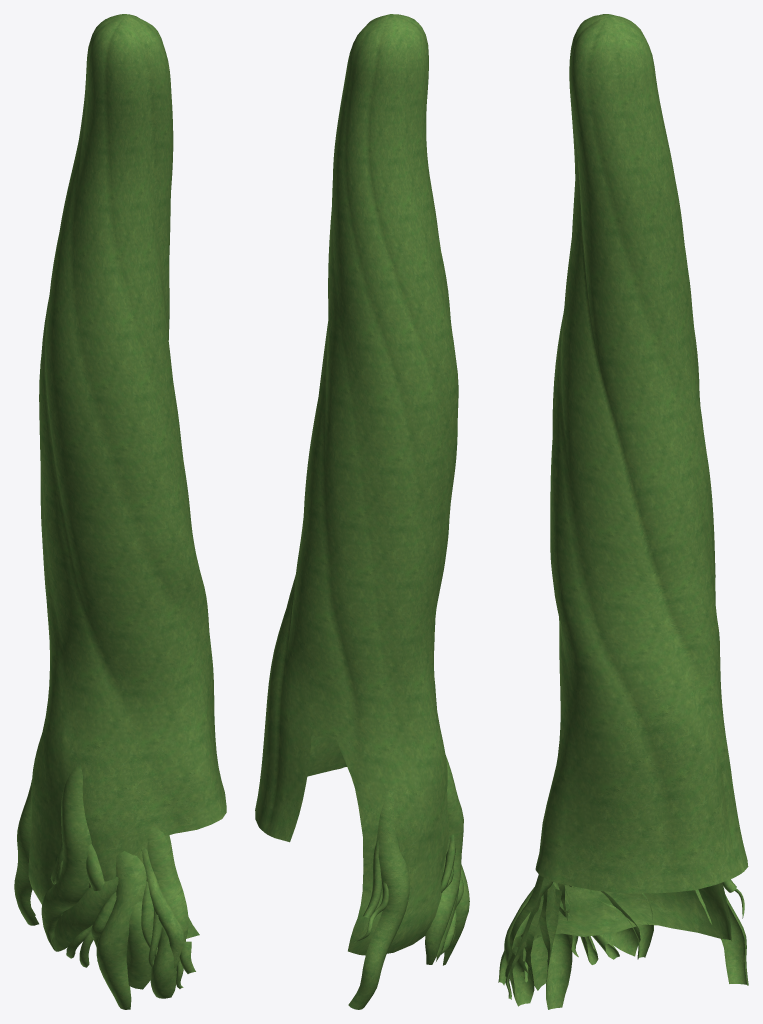
The model's file is SM_ENV_KNFRST_LargeTree_A.FBX.
3 renders of one model, left to right at view 1: azimuth 30°, elevation 25°; view 2: azimuth 150°, elevation 25°; view 3: azimuth 270°, elevation 25°, orthographic. The views are drawn at different scales.
Visible parts, largest first — view 1: SM_ENV_KNFRST_LargeTree_A; view 2: SM_ENV_KNFRST_LargeTree_A; view 3: SM_ENV_KNFRST_LargeTree_A.
Boxes of the visible parts, left/top/right/bottom form: SM_ENV_KNFRST_LargeTree_A: left=14, top=14, right=226, bottom=1009; SM_ENV_KNFRST_LargeTree_A: left=255, top=14, right=469, bottom=1009; SM_ENV_KNFRST_LargeTree_A: left=498, top=14, right=748, bottom=1009.
Bounding box in the file's own units: 2500 × 13588 × 3060.
